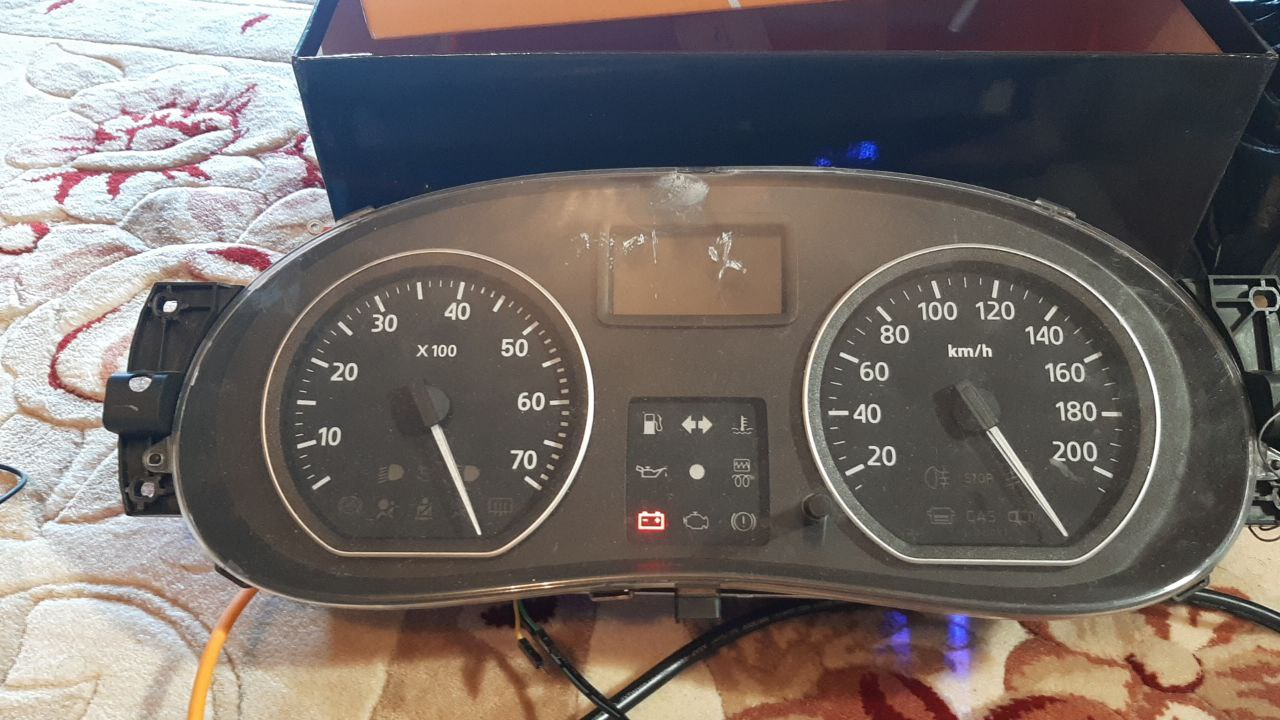accumulator: (630, 504, 669, 536)
